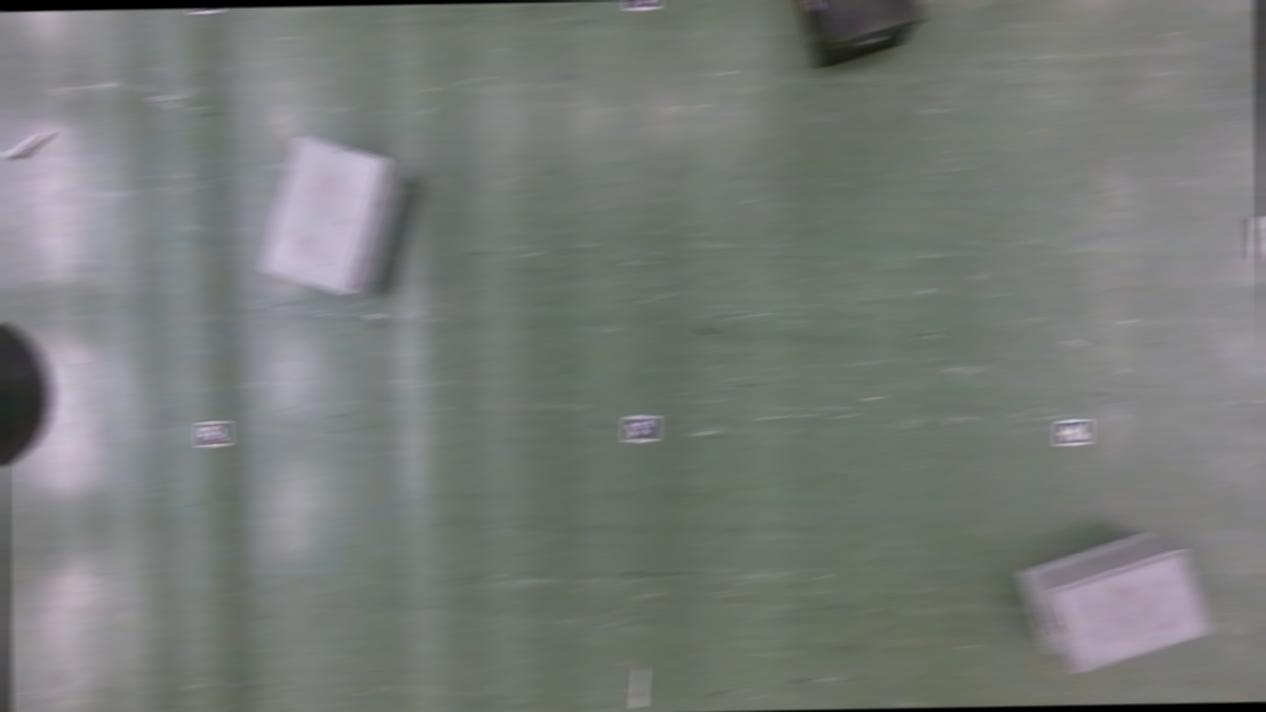probes: (4, 131, 53, 161), (1247, 214, 1266, 261), (633, 666, 648, 708)
rako: (1012, 532, 1216, 678), (258, 132, 415, 304), (794, 0, 928, 67)
